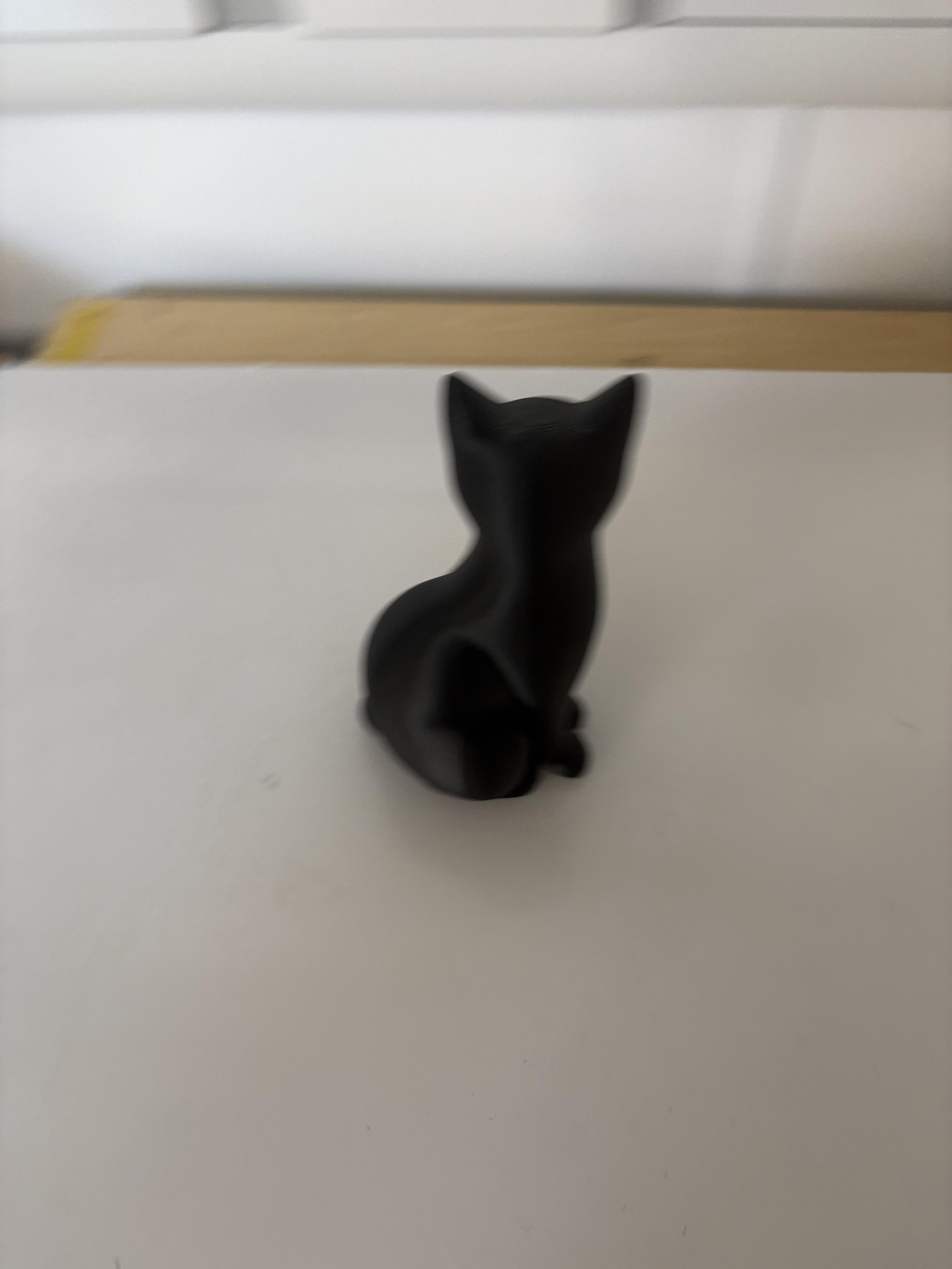cat: (366, 375, 636, 799)
